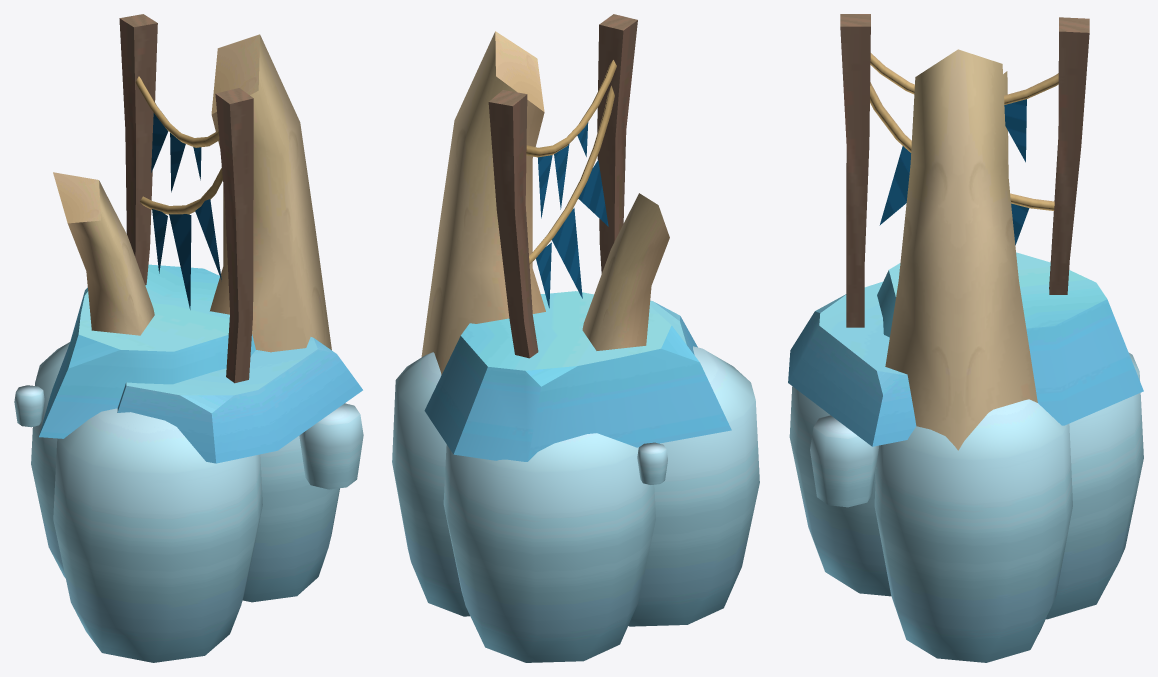
The model's file is Obstacle1B-005_02_07_2755.fbx.
3 renders of one model, left to right at view 1: azimuth 30°, elevation 25°; view 2: azimuth 150°, elevation 25°; view 3: azimuth 270°, elevation 25°, orthographic. The views are drawn at different scales.
Parts seen in each view (by area): view 1: Snowpile (6), Bone1 (1), Rock (1), Rock (2), Snowpile (1), Bone4 (1), Wood1.002 (1), Wood1.002 (2), Snowpile (5), Snowpile (7), Flag1.001 (6), Snowpile (2) (+5 smaller); view 2: Snowpile (7), Rock (2), Snowpile (6), Bone1 (1), Snowpile (1), Wood1.002 (2), Bone4 (1), Wood1.002 (1), Rope2 (1), Flag1.001 (6), Snowpile (2), Rope2 (2) (+3 smaller); view 3: Snowpile (1), Bone1 (1), Rock (2), Snowpile (7), Rock (1), Snowpile (6), Wood1.002 (1), Wood1.002 (2), Snowpile (5), Rope2 (1), Rope2 (2), Flag1.001 (7) (+1 smaller).
Boxes of the visible parts, x1,y1,x2,y2 form: Snowpile (6): (53,408,262,662); Bone1 (1): (210,34,331,352); Rock (1): (117,337,362,463); Rock (2): (39,264,255,438); Snowpile (1): (242,436,339,602); Bone4 (1): (53,172,154,335); Wood1.002 (1): (215,88,253,383); Wood1.002 (2): (119,14,157,285); Snowpile (5): (299,403,363,489); Snowpile (7): (31,342,69,578); Flag1.001 (6): (169,214,191,309); Snowpile (2): (14,385,44,427); Snowpile (7): (443,433,655,662); Rock (2): (424,291,731,461); Snowpile (6): (628,346,759,626); Bone1 (1): (421,31,545,374); Snowpile (1): (392,352,469,616); Wood1.002 (2): (488,90,538,358); Bone4 (1): (582,193,669,350); Wood1.002 (1): (597,14,637,273); Rope2 (1): (529,85,614,264); Flag1.001 (6): (552,208,582,298); Snowpile (2): (637,442,667,484); Rope2 (2): (526,60,616,157); Snowpile (1): (874,399,1072,662); Bone1 (1): (885,49,1037,450); Rock (2): (877,252,1143,425); Snowpile (7): (1046,352,1143,619); Rock (1): (788,281,916,446); Snowpile (6): (789,386,891,596); Wood1.002 (1): (840,14,870,327); Wood1.002 (2): (1049,17,1089,294); Snowpile (5): (810,415,878,507); Rope2 (1): (870,82,1054,210); Rope2 (2): (870,53,1058,104); Flag1.001 (7): (879,146,911,225).
Bounding box in the file's own units: 3.02 × 5.09 × 2.81.
